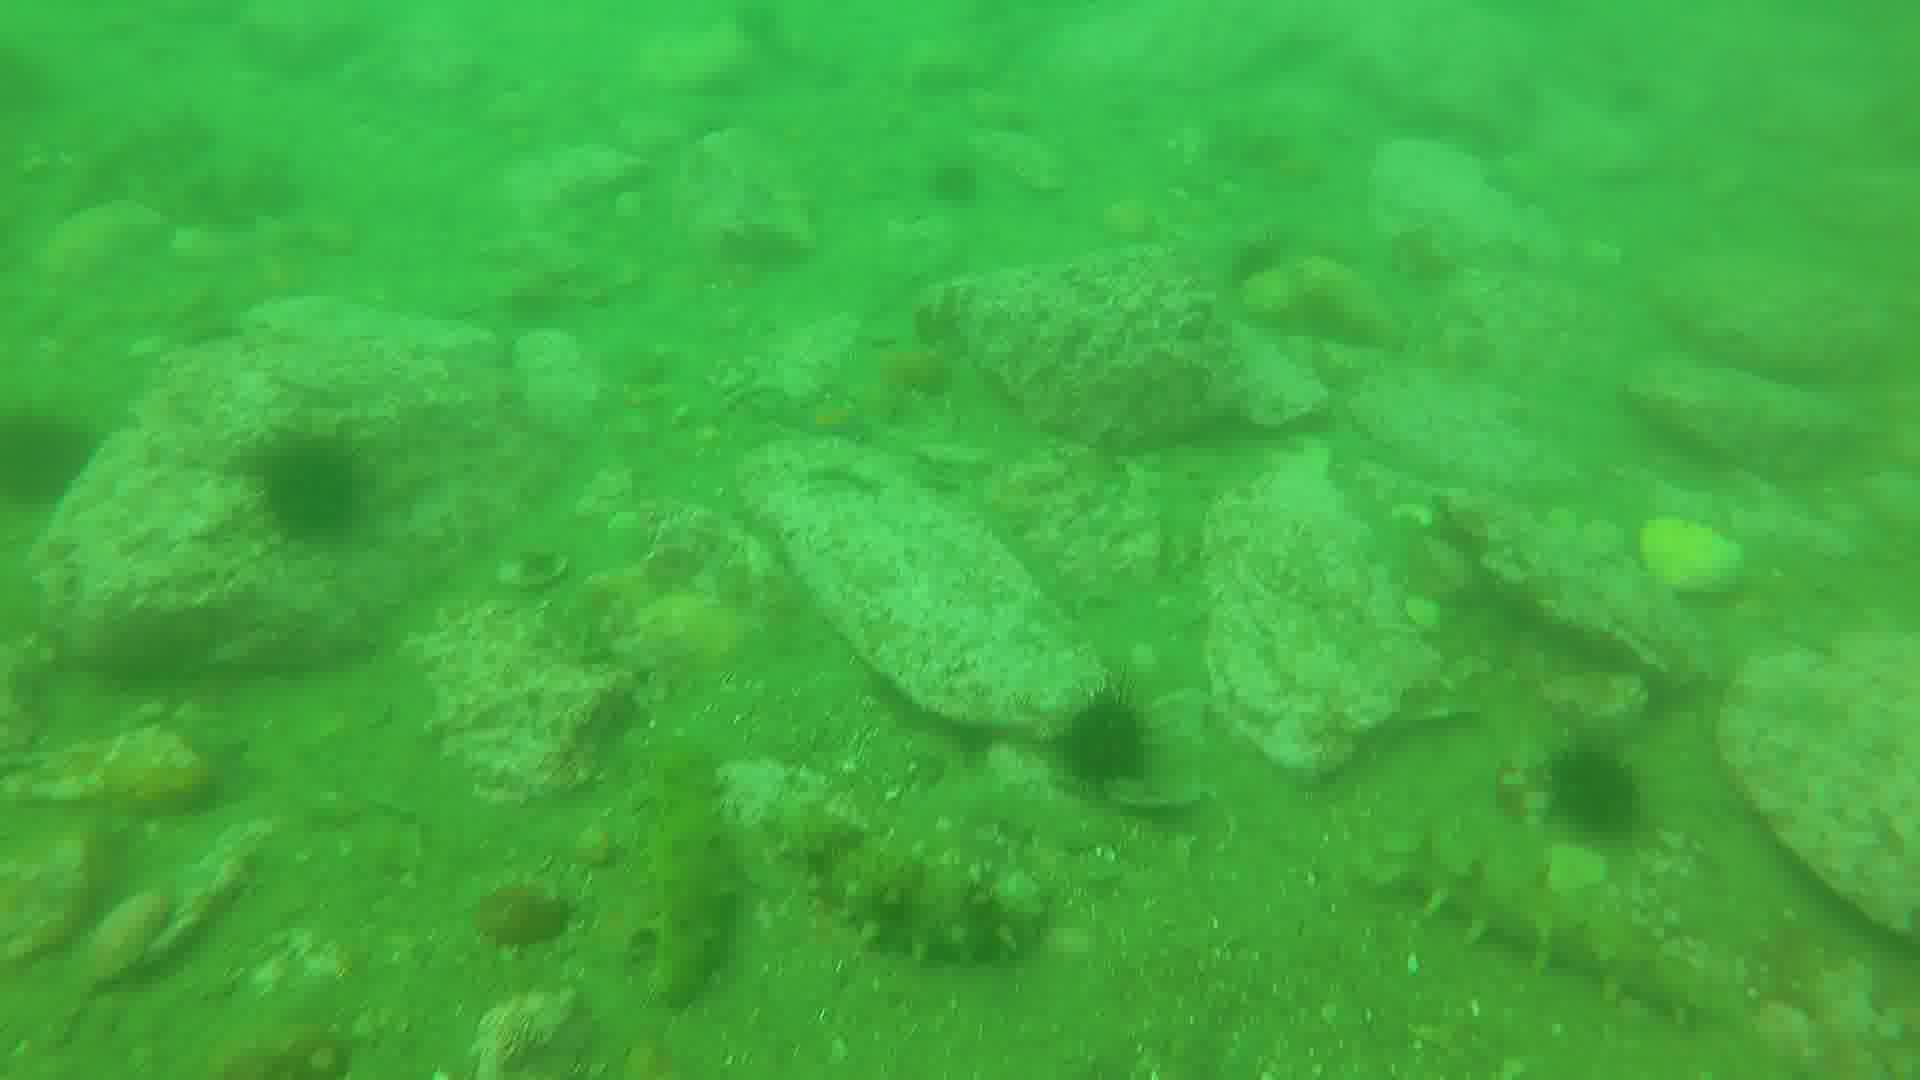echinus: (1542, 738, 1647, 847), (1058, 679, 1154, 794), (258, 438, 367, 538)
holothurian: (1393, 829, 1708, 1021), (769, 800, 1038, 963), (630, 740, 745, 1000)
